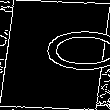O_W: (6, 32, 104, 78)
